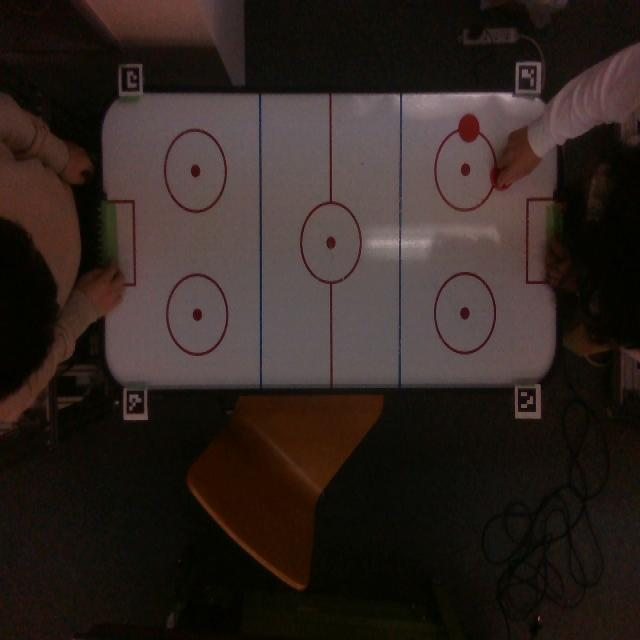puck: (458, 113, 479, 142)
